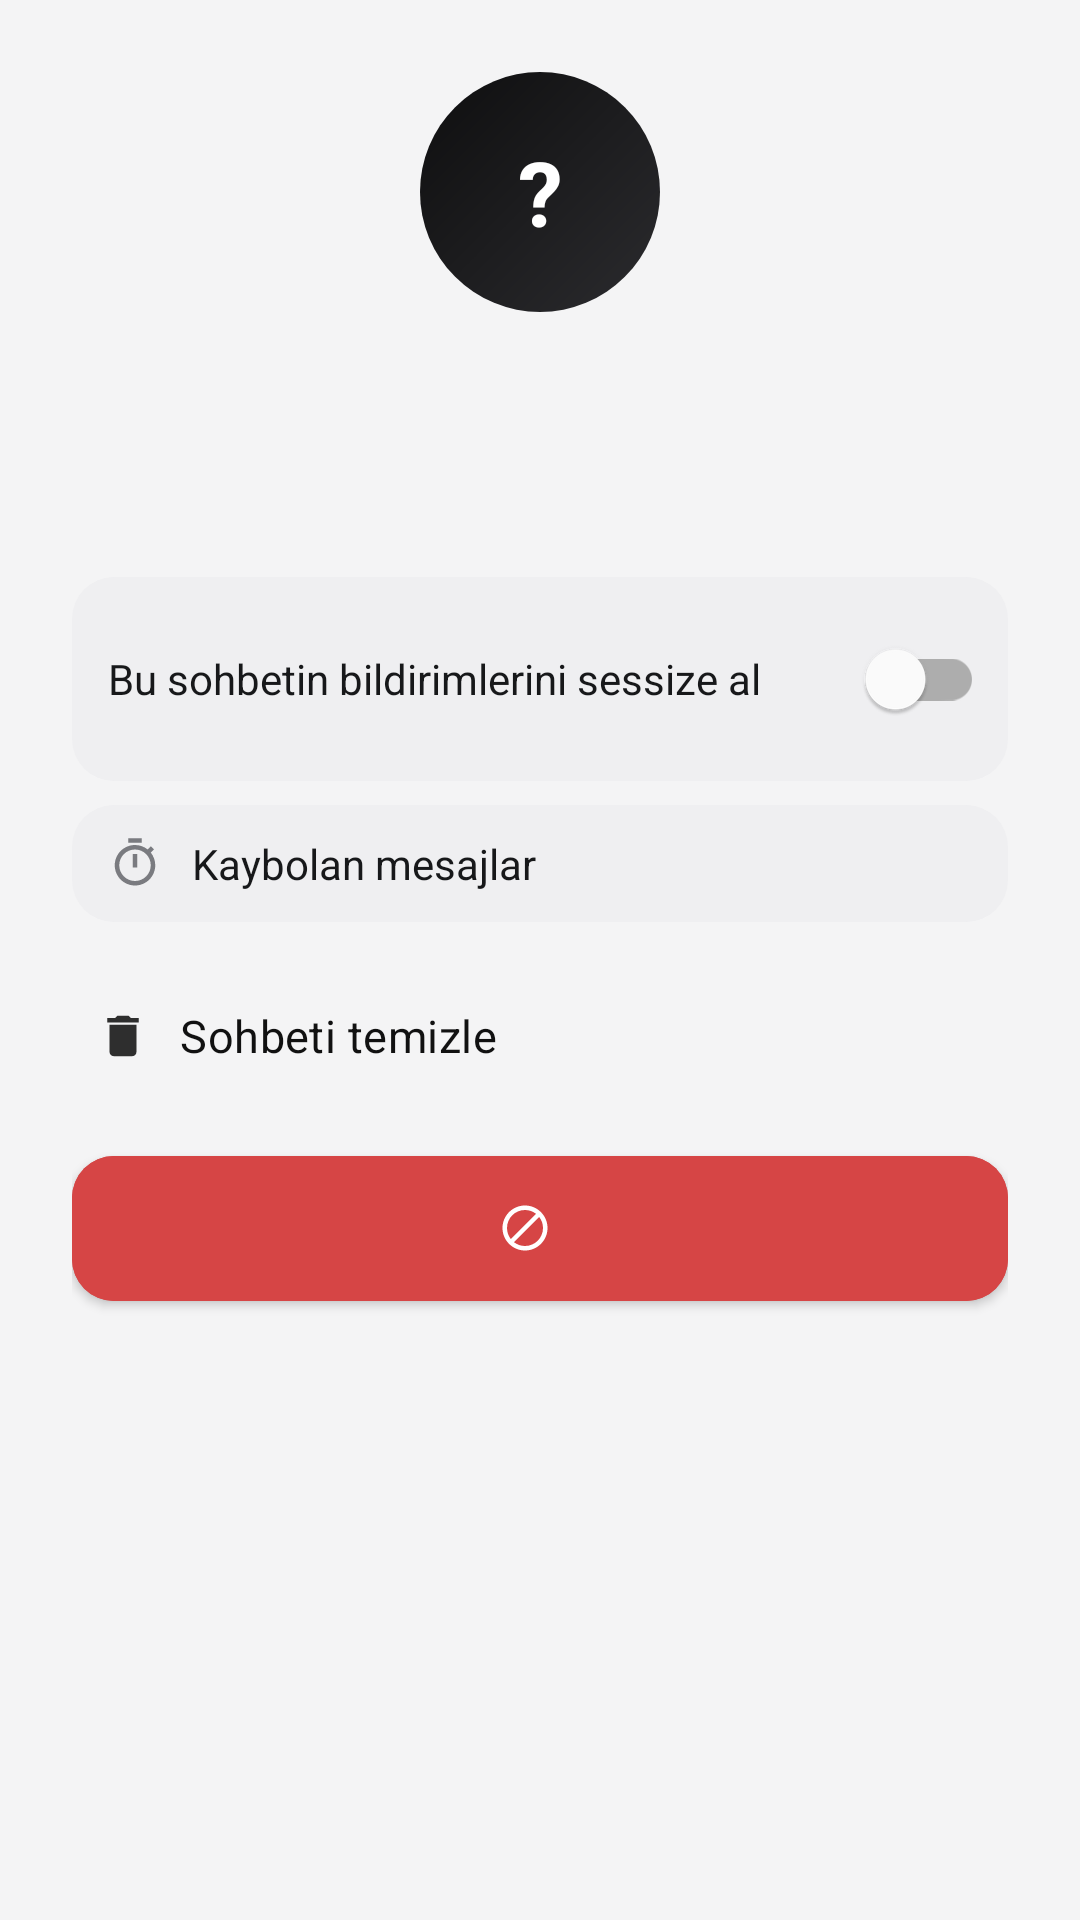

Point at icon controls on the screen. Image size 1080×1920, points as (x,y).
timer: (135,862)
